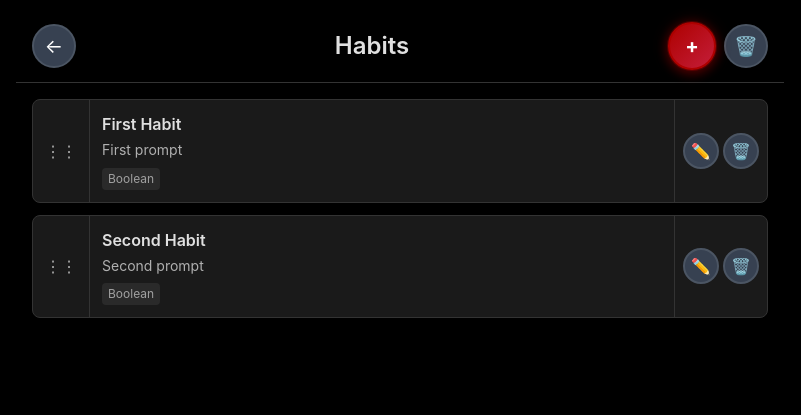
Test: HabitManager › Mobile Drag-and-Drop CSS Requirements › should have touch-action: auto on interactive elements to allow normal mobile interaction
The image size is (801, 415).
Expected: the heading "First Habit" is shown, [102, 114, 181, 134]
Note: Click edit to show form inputs
Click the button named "Edit habit": (701,151) [683, 133, 719, 169]
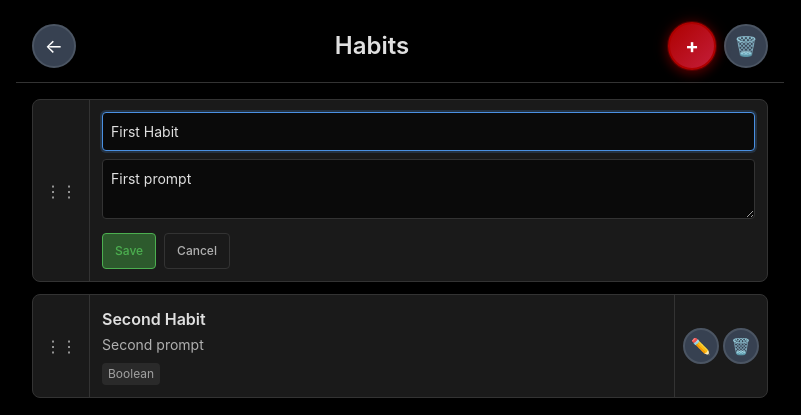
Expected: the field showing "First Habit" is shown, [102, 112, 755, 151]
